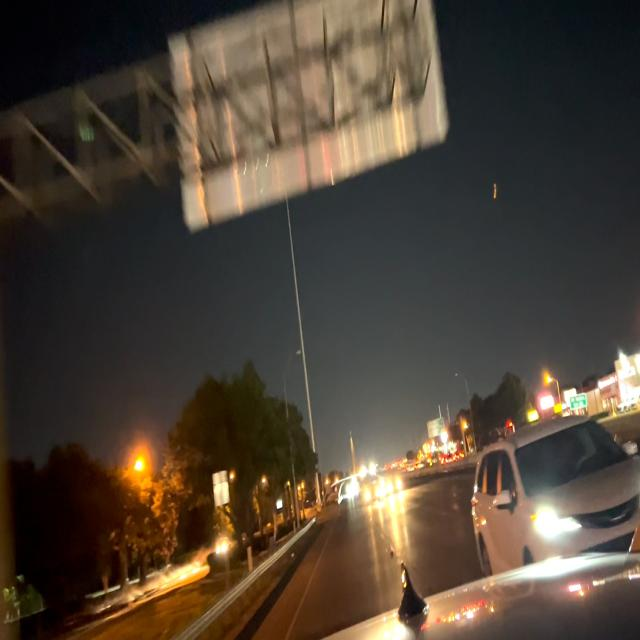back-of-sign: (171, 3, 447, 238)
